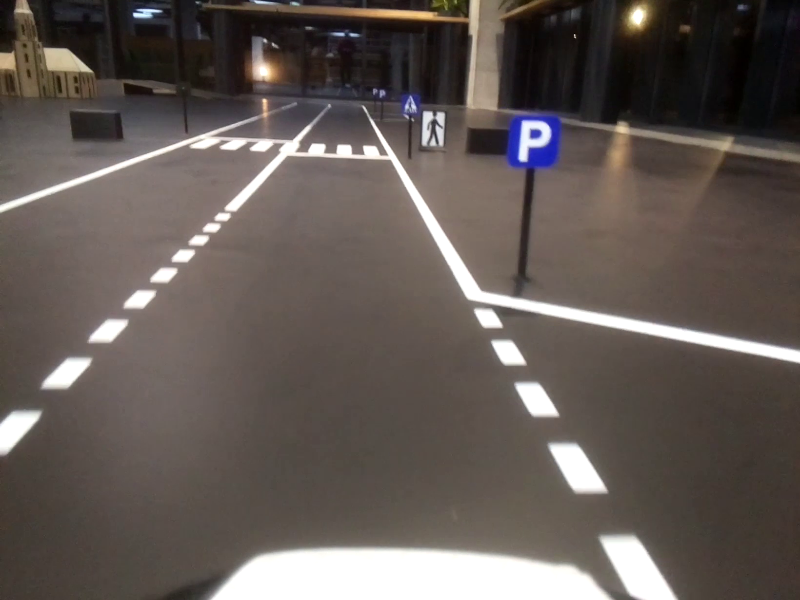park: (506, 116, 555, 170)
